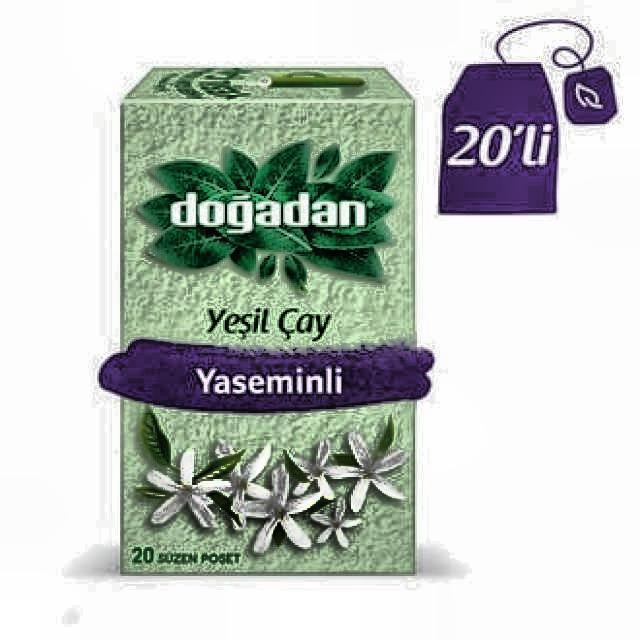cardboard: (95, 65, 433, 578)
